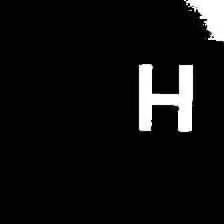LTR_H: (126, 58, 202, 138)
